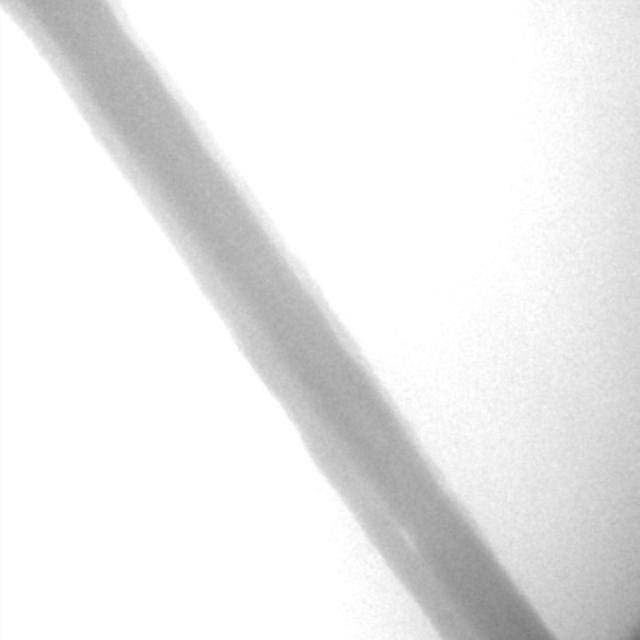air hole: (400, 528, 418, 551)
